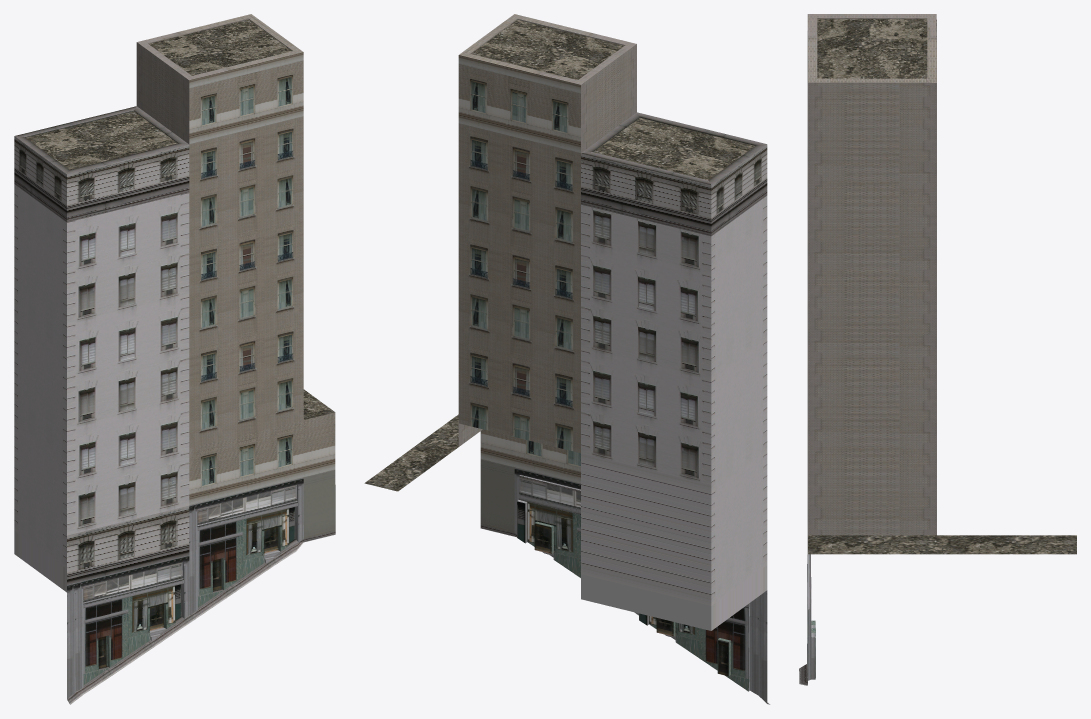
Rendered from ferryshops07.obj.
3 renders of one model, left to right at view 1: azimuth 30°, elevation 25°; view 2: azimuth 150°, elevation 25°; view 3: azimuth 270°, elevation 25°, orthographic. The views are drawn at different scales.
Parts seen in each view (by area): view 1: ferryshops07; view 2: ferryshops07; view 3: ferryshops07.
Part boxes in pixels (box(x1,y1,x2,y2)): ferryshops07: box(14, 14, 335, 704); ferryshops07: box(364, 14, 770, 704); ferryshops07: box(799, 14, 1076, 685).
Size of the model in its own units: 48.63 by 103 by 35.38.
Materials: 12 (12 with a texture image).
